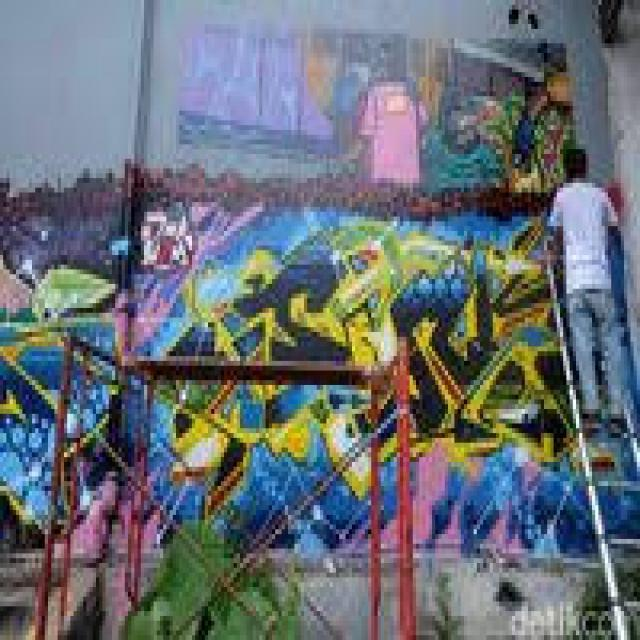-: (0, 168, 640, 562), (170, 238, 574, 508), (177, 14, 574, 187), (4, 266, 120, 419)
